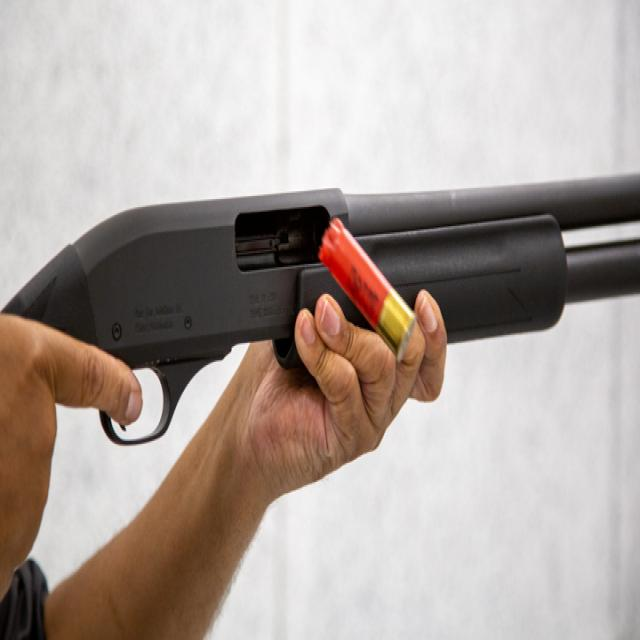ShotGun: (5, 172, 640, 447)
